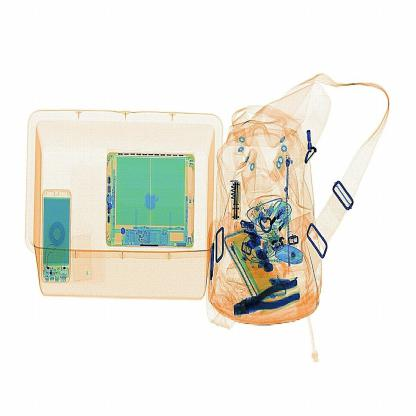scissors: (229, 174, 244, 222)
